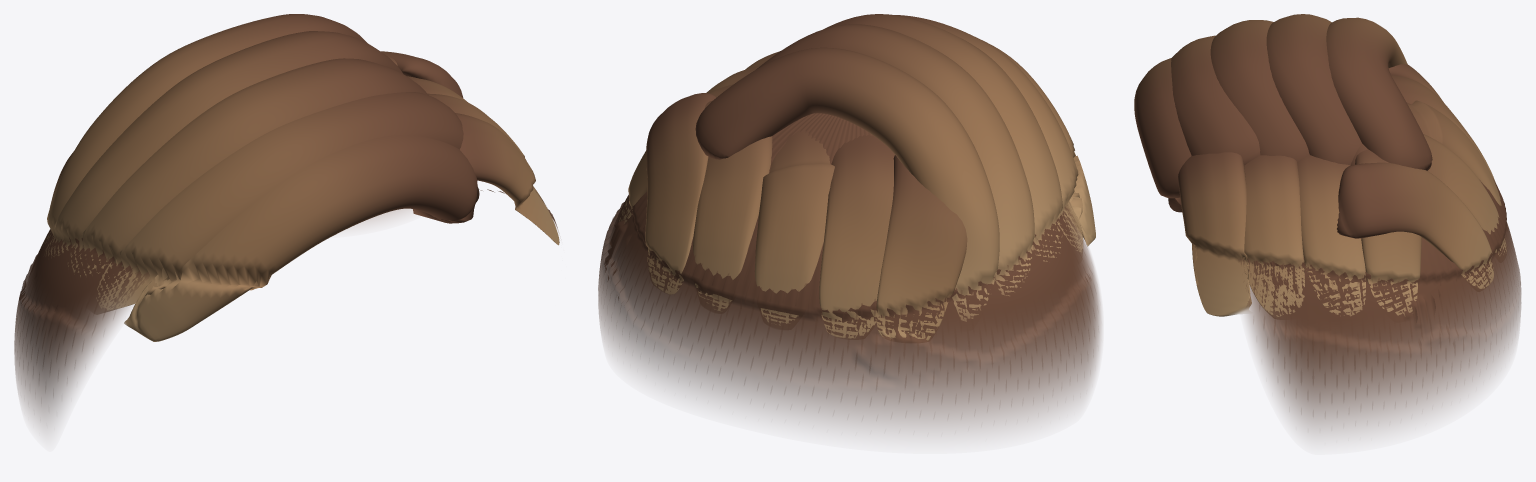
File: Masculine-taper-headband257-hair-ombre.glb
The picture shows the model from 3 angles, left to right: view 1: azimuth 30°, elevation 25°; view 2: azimuth 150°, elevation 25°; view 3: azimuth 270°, elevation 25°; orthographic projection. The views are drawn at different scales.
Parts seen in each view (by area): view 1: 226 hair / Hair252 / sculpted locks, 226 hair / Hair252 / gentle tonal variation, 226 hair / Hair257 / smooth side fade, 226 hair / Hair257 / directional fade marks; view 2: 226 hair / Hair252 / sculpted locks, 226 hair / Hair257 / smooth side fade, 226 hair / Hair252 / gentle tonal variation, 226 hair / Hair257 / directional fade marks; view 3: 226 hair / Hair252 / sculpted locks, 226 hair / Hair257 / smooth side fade, 226 hair / Hair252 / gentle tonal variation, 226 hair / Hair257 / directional fade marks.
Part boxes in pixels (x1,y1,x2,y2): 226 hair / Hair252 / sculpted locks: [41, 14, 544, 312]; 226 hair / Hair252 / gentle tonal variation: [124, 113, 559, 341]; 226 hair / Hair257 / smooth side fade: [14, 187, 558, 428]; 226 hair / Hair257 / directional fade marks: [16, 236, 139, 375]; 226 hair / Hair252 / sculpted locks: [619, 14, 1083, 340]; 226 hair / Hair257 / smooth side fade: [598, 113, 1101, 433]; 226 hair / Hair252 / gentle tonal variation: [745, 40, 1095, 338]; 226 hair / Hair257 / directional fade marks: [603, 196, 1094, 402]; 226 hair / Hair252 / sculpted locks: [1171, 14, 1507, 316]; 226 hair / Hair257 / smooth side fade: [1238, 102, 1521, 435]; 226 hair / Hair252 / gentle tonal variation: [1134, 58, 1495, 316]; 226 hair / Hair257 / directional fade marks: [1244, 189, 1506, 398].
Size of the model in its own units: 0.9723 by 0.6944 by 0.7439.
